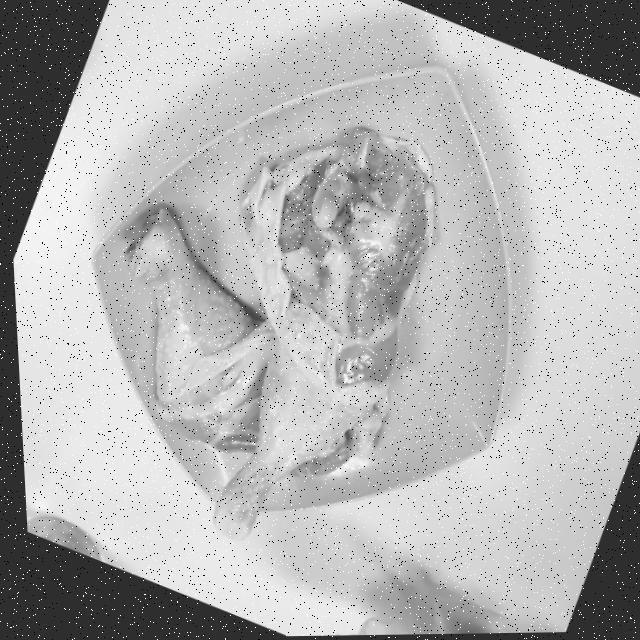quater: (219, 135, 423, 564), (118, 206, 274, 442)
